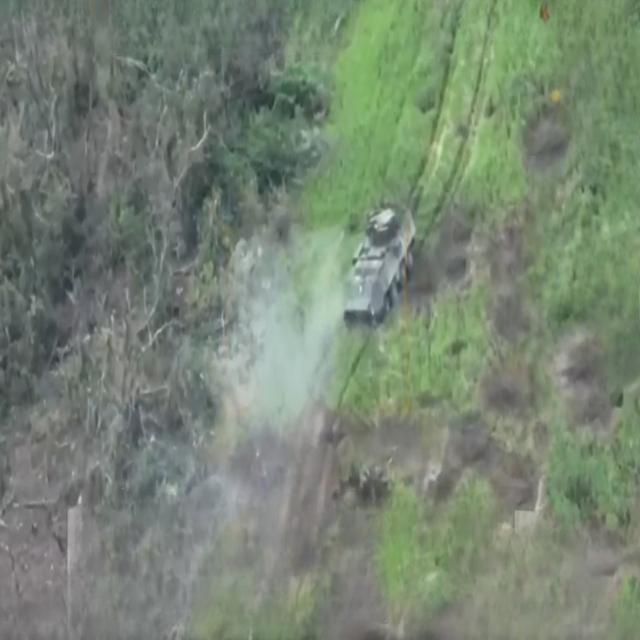APC: (338, 194, 420, 340)
